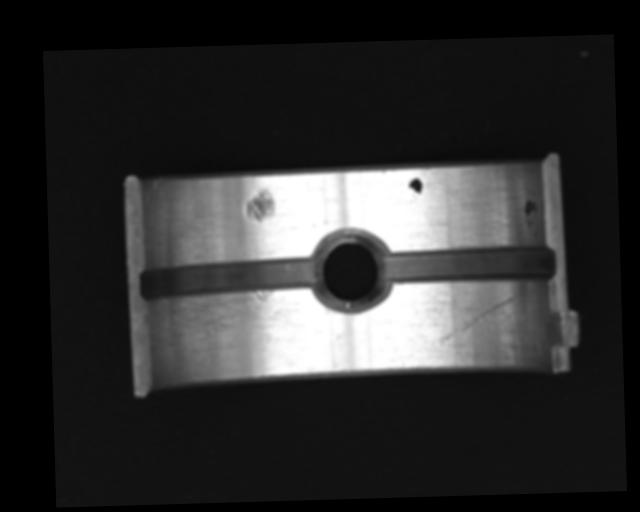blot: (522, 198, 538, 228), (408, 176, 423, 198)
bruise: (245, 188, 275, 222)
gap: (137, 256, 321, 302), (380, 244, 554, 285)
hole: (315, 228, 392, 315)
nick: (436, 295, 519, 347)
scratch: (155, 286, 321, 370)
